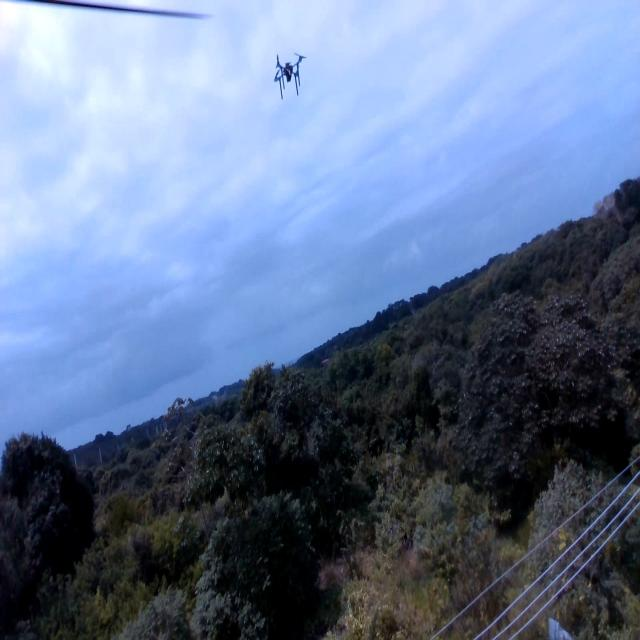-uav-: (262, 47, 318, 114)
